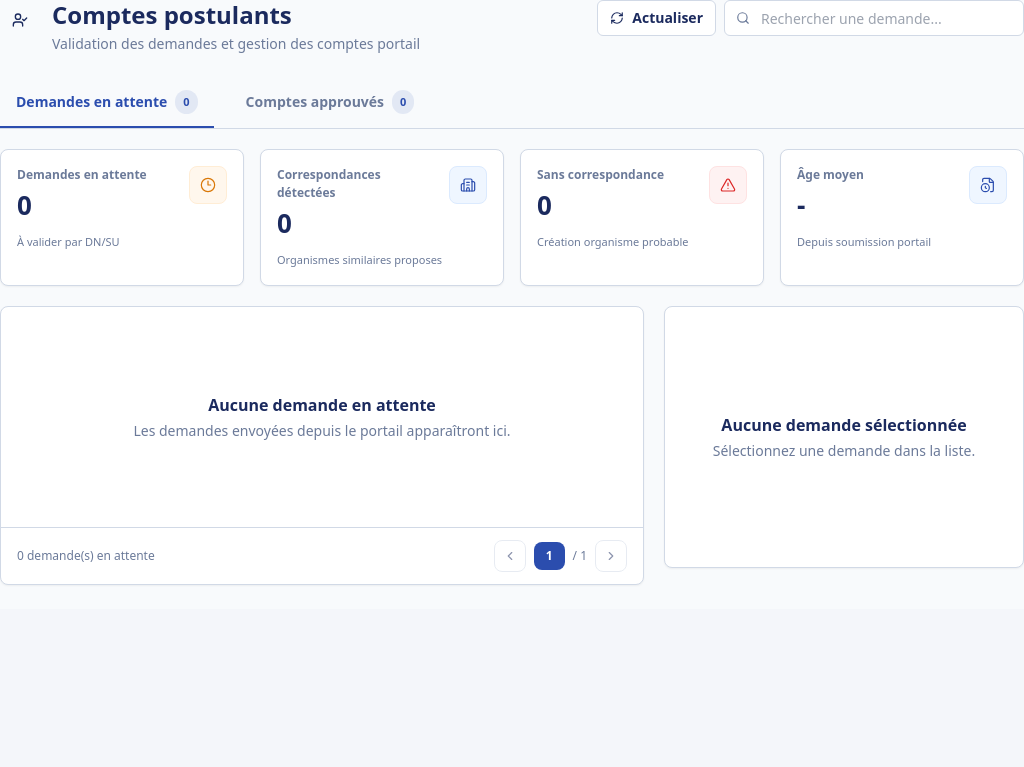
Test: <AccountRequestsPage> approved account edit › changing the selected account leaves edit mode
Click the button "Comptes approuvés 0": click(330, 103) [230,78,430,128]
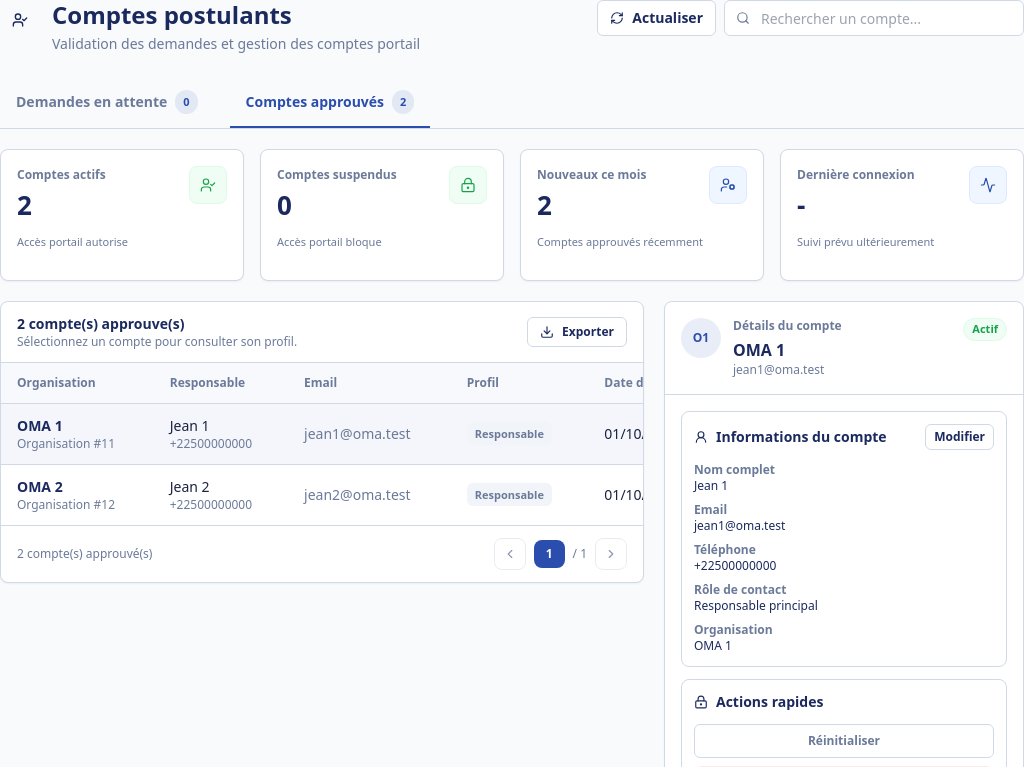
Click the button "Modifier": click(960, 437) [925,424,994,450]
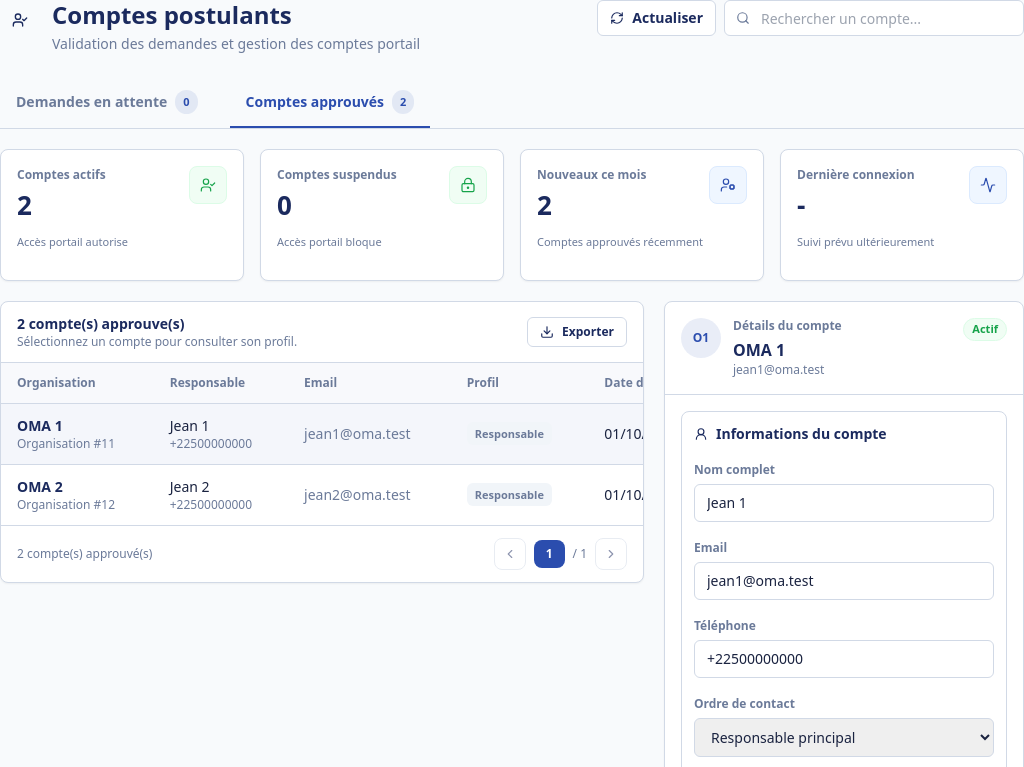
Check: the field labelled "Nom complet" is shown, box [694,484,994,522]
Click the text "OMA 2": click(40, 486) [17,476,63,496]
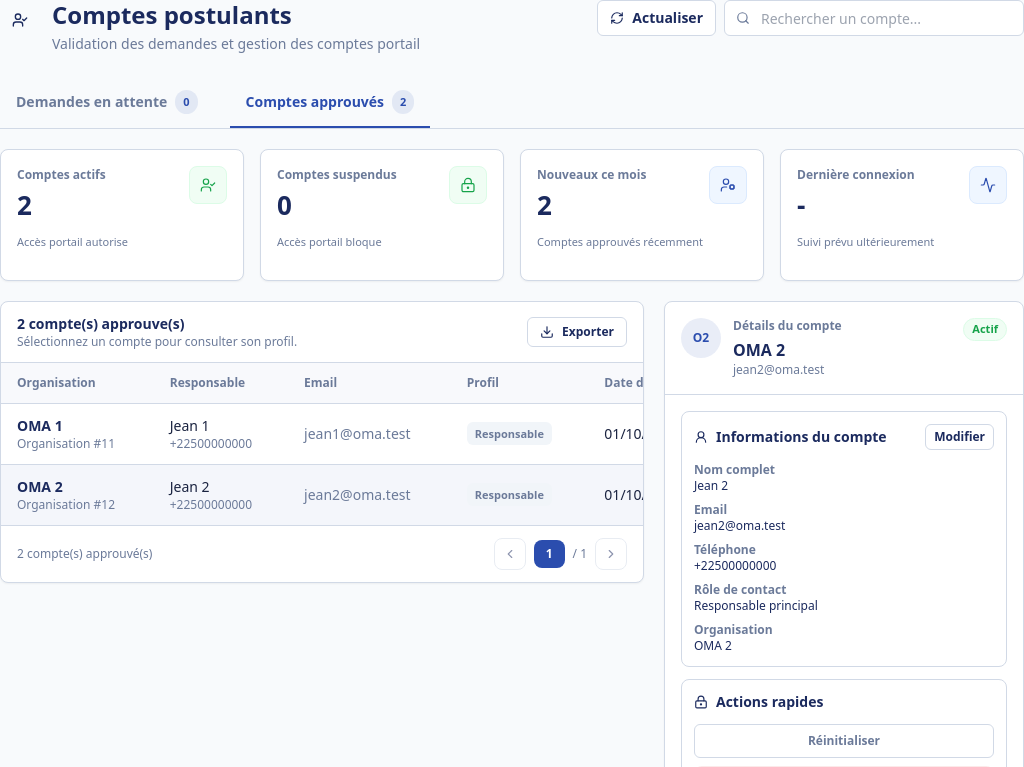
Check: the button "Modifier" is shown, box [925,424,994,450]
